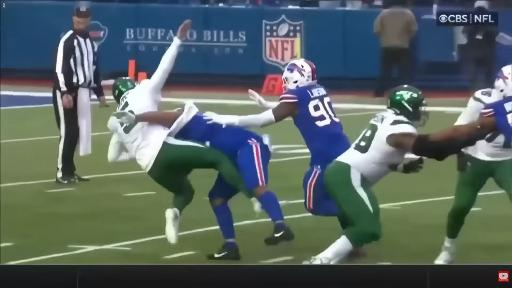Helmet: (387, 85, 428, 126), (282, 59, 316, 90), (112, 77, 137, 103), (495, 65, 511, 97)
Jersey: (336, 111, 417, 184), (280, 85, 350, 166), (175, 113, 263, 159), (108, 117, 169, 171), (455, 89, 502, 125), (482, 96, 511, 144)
Player: (305, 86, 491, 263), (114, 104, 294, 245), (205, 59, 350, 229), (108, 118, 242, 243), (435, 131, 511, 264)
